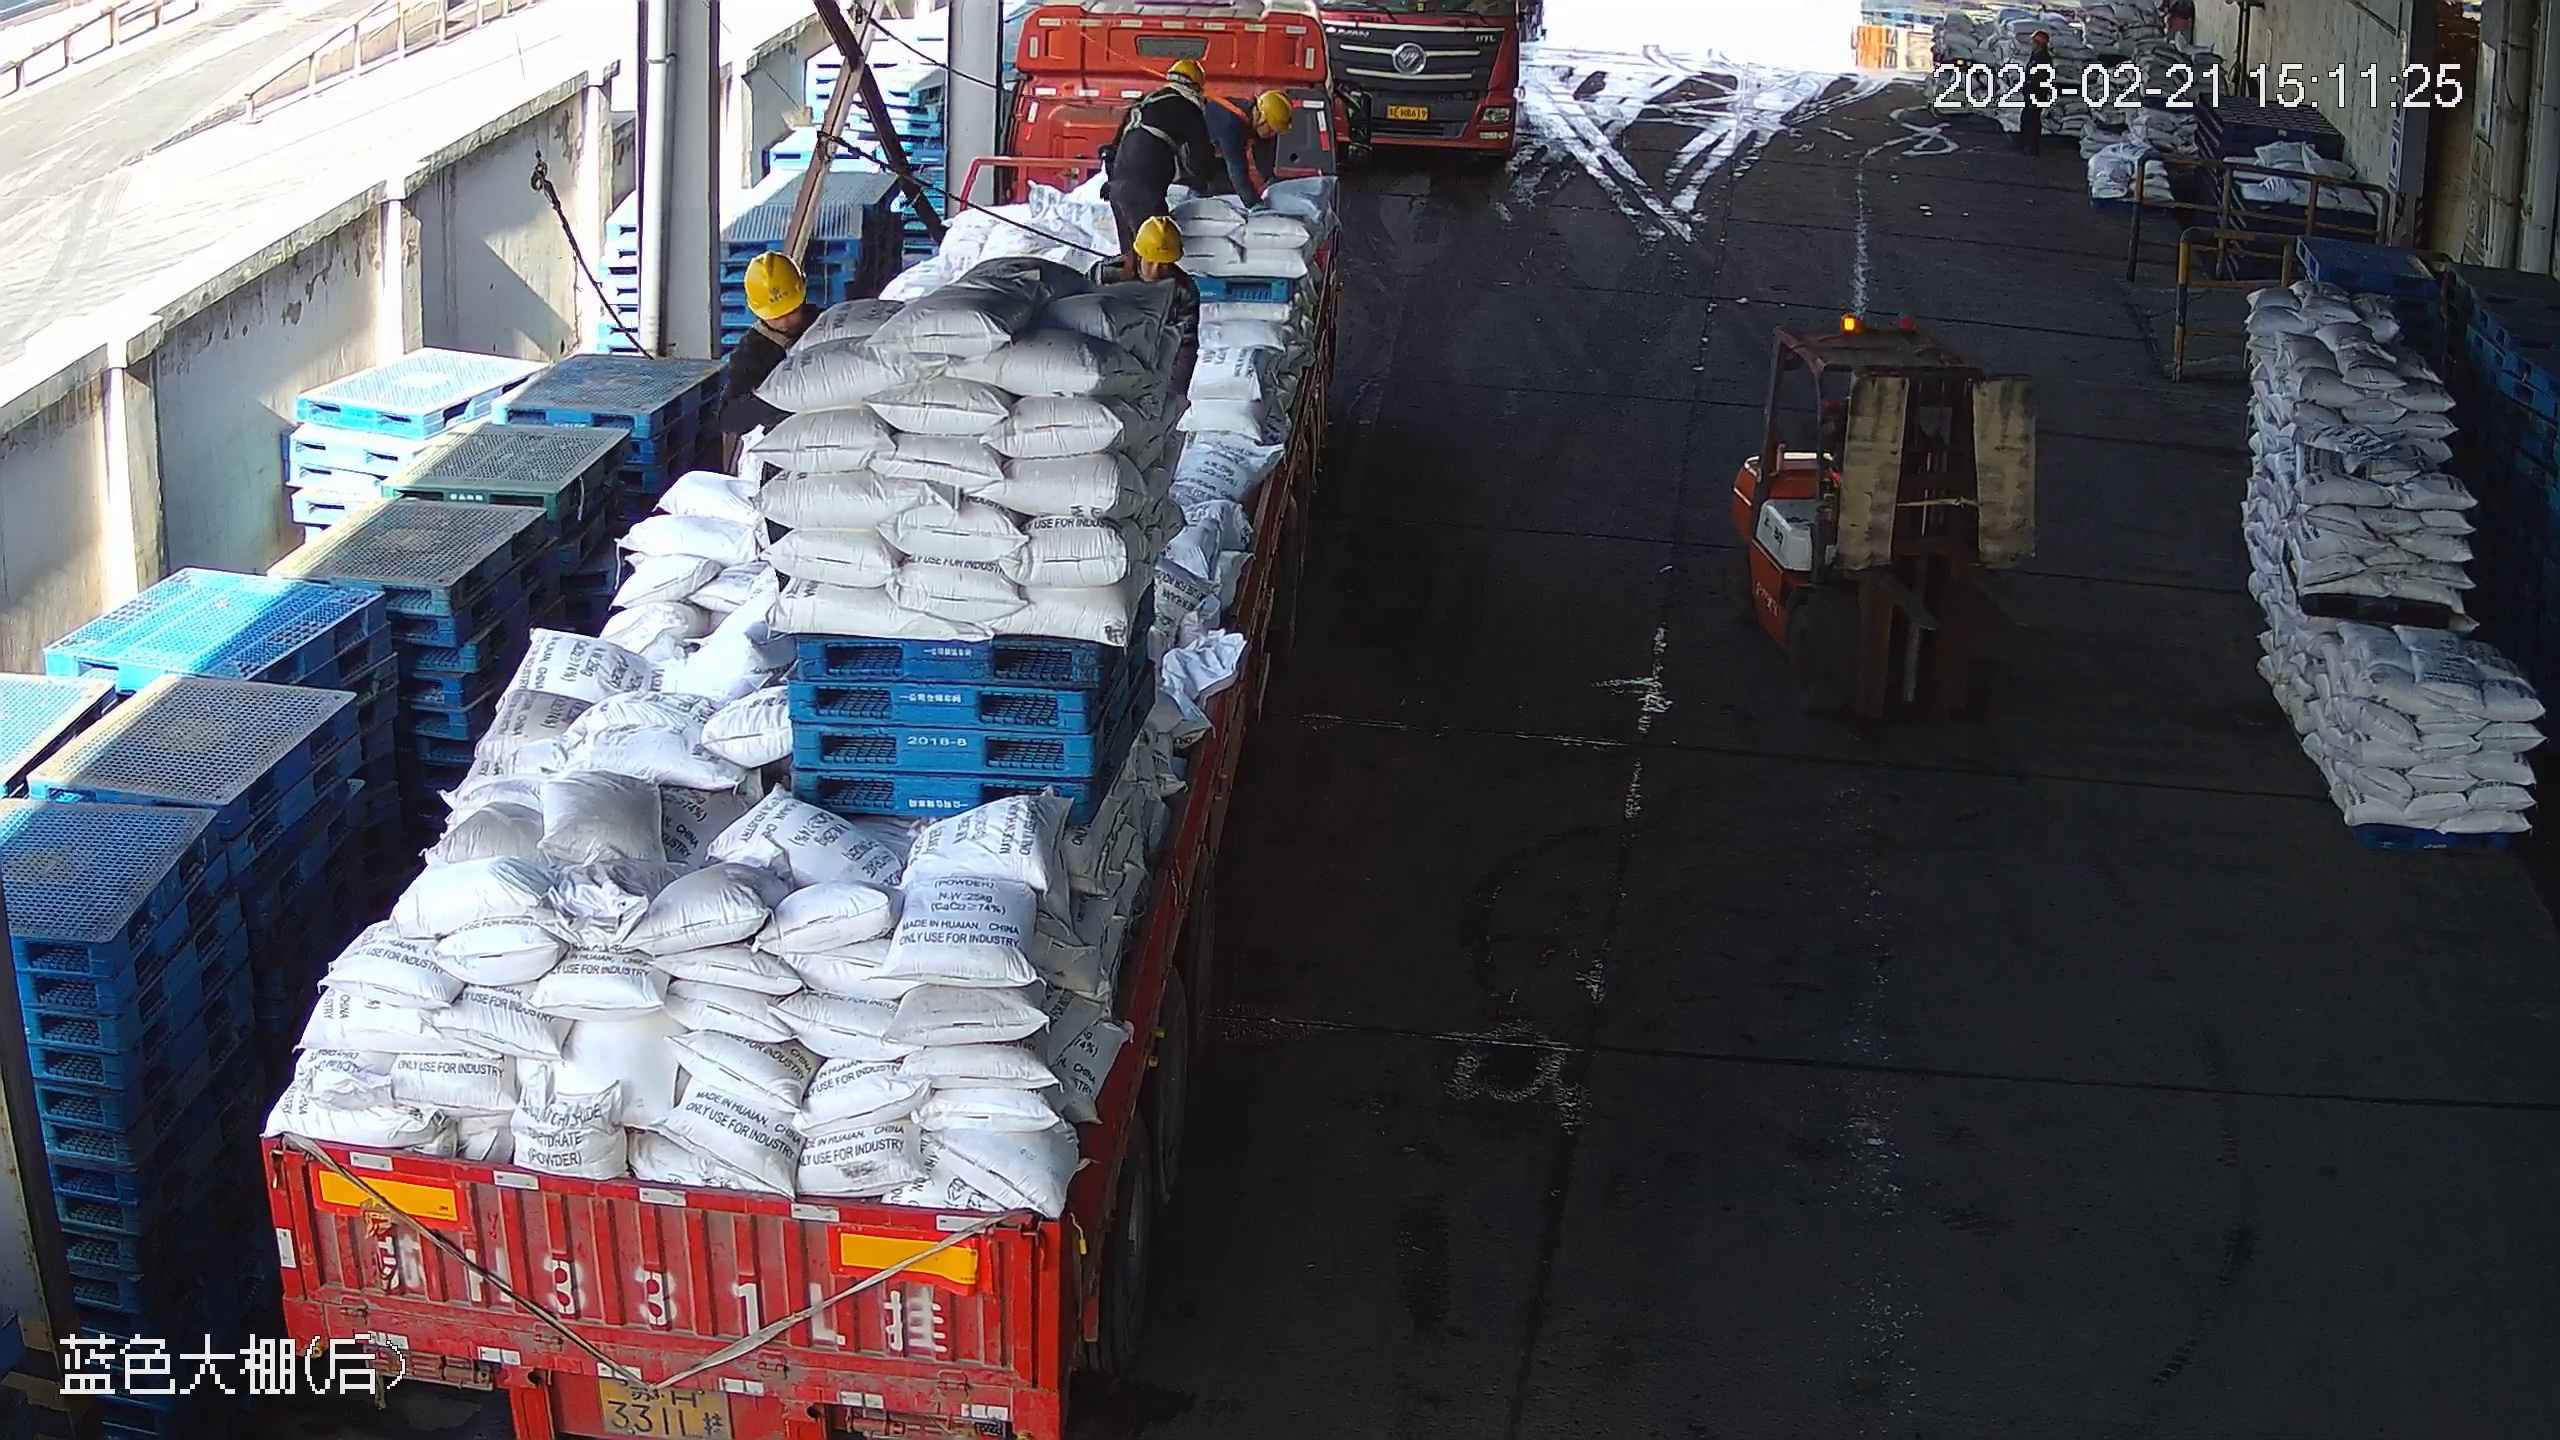belt: (1120, 80, 1207, 156), (1206, 93, 1250, 125)
head: (1125, 58, 1214, 124), (1221, 91, 1293, 160)
helmet: (744, 250, 810, 322), (1131, 213, 1186, 264), (1256, 90, 1293, 133), (1166, 58, 1204, 89)
people: (1099, 57, 1215, 258)
truck: (259, 1, 1370, 1440), (1318, 1, 1520, 163)
